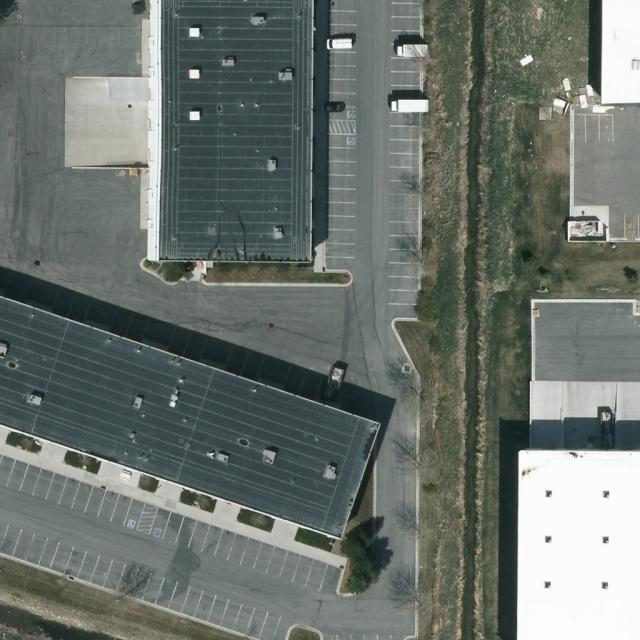vehicle: (390, 100, 430, 112), (397, 44, 429, 57), (326, 38, 353, 49), (322, 103, 346, 112)
